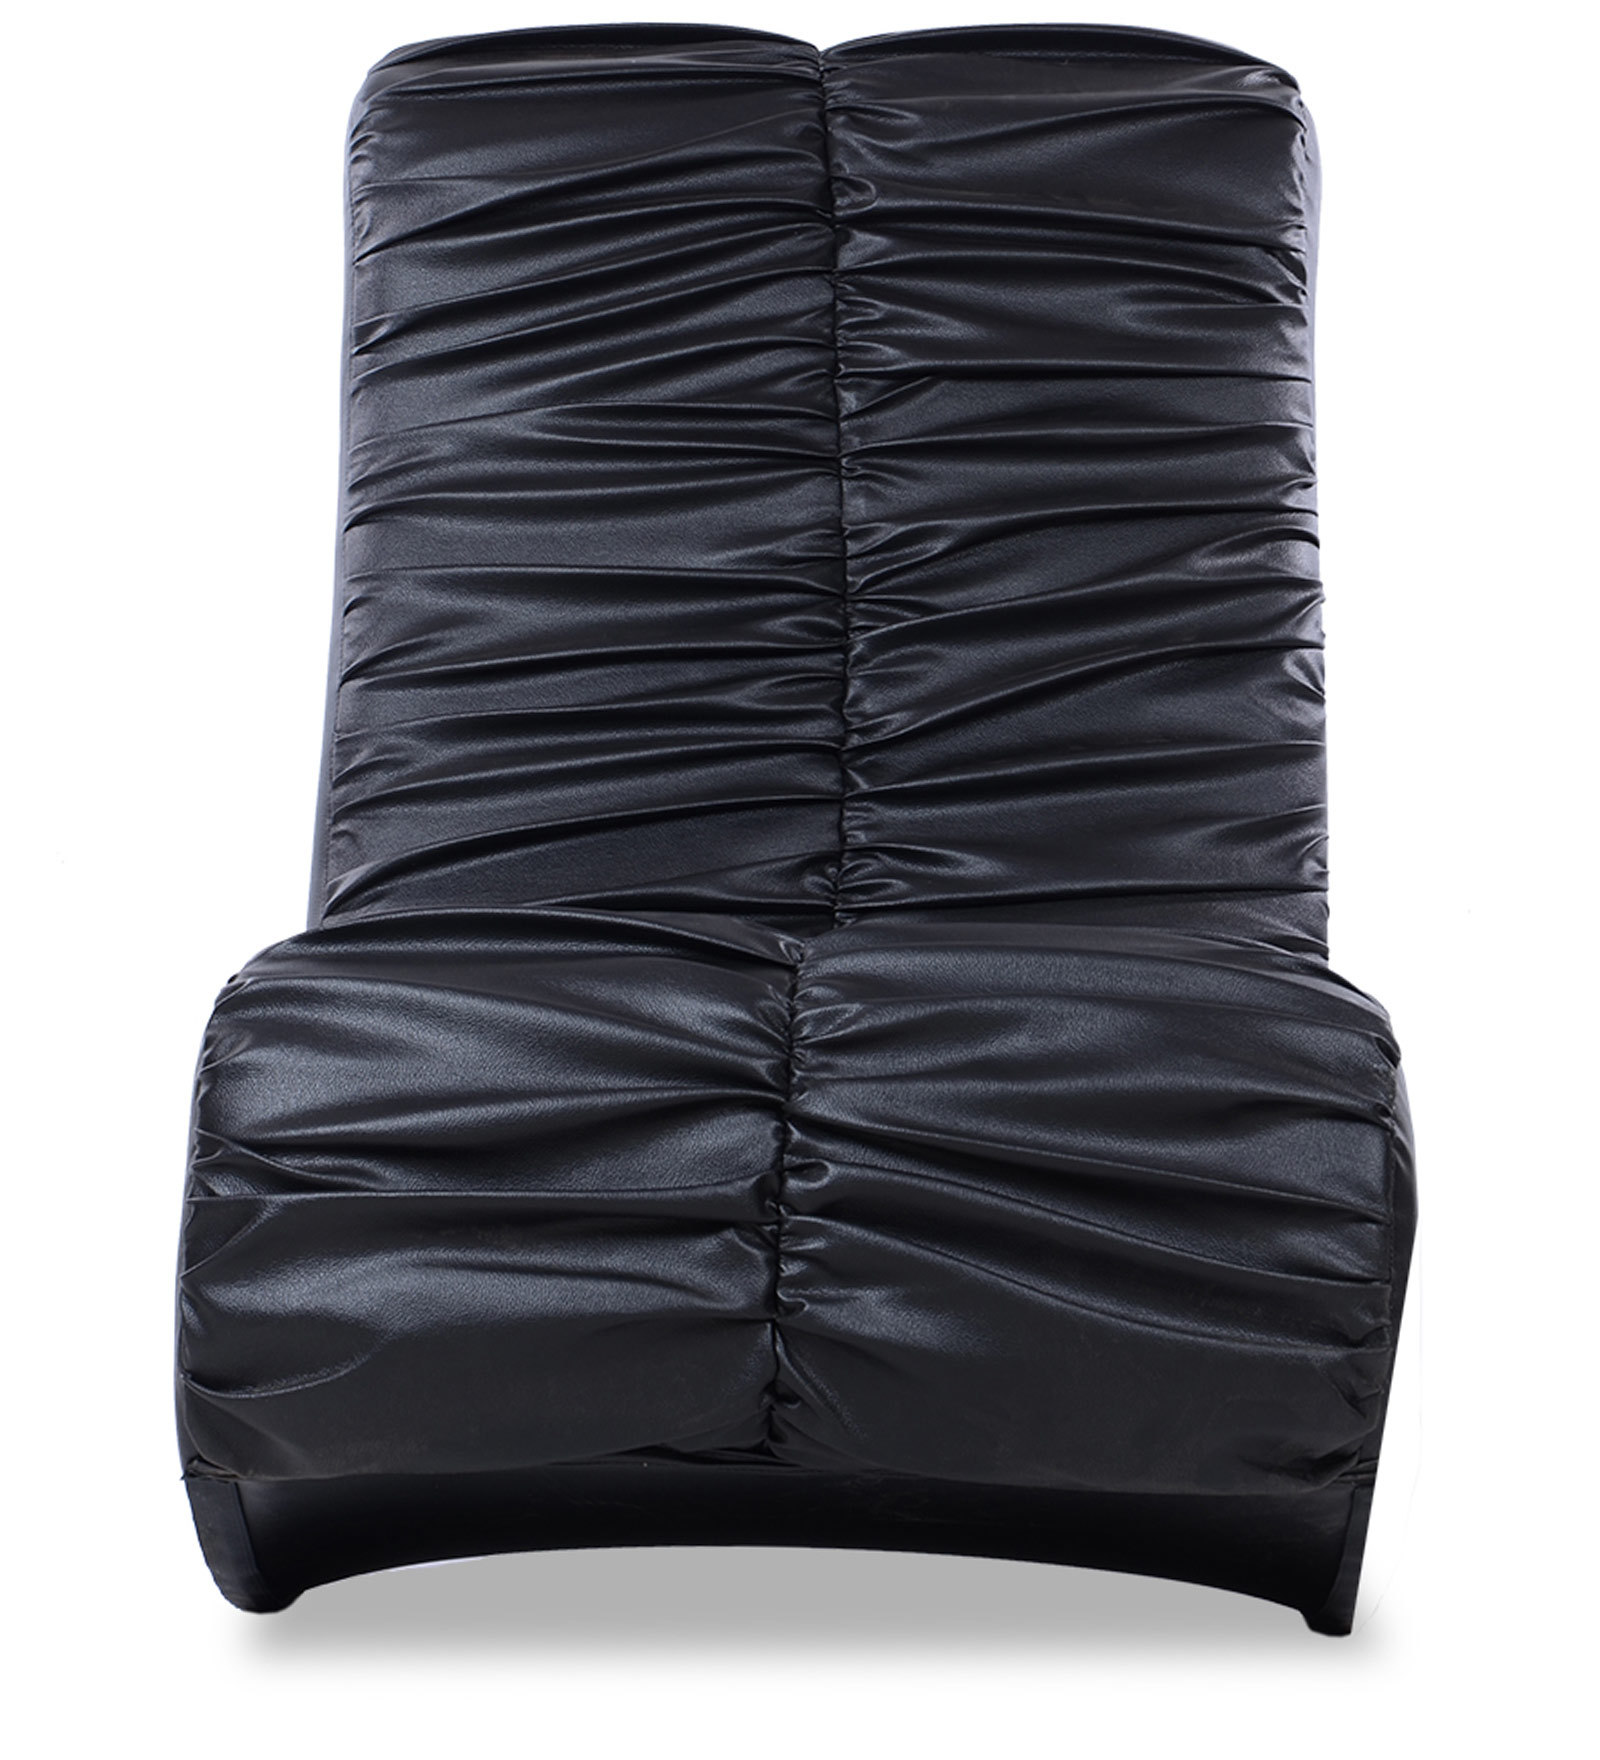Low Seat Rocking Chair in Black Leatherette by Durian: (166, 17, 1425, 1653)
